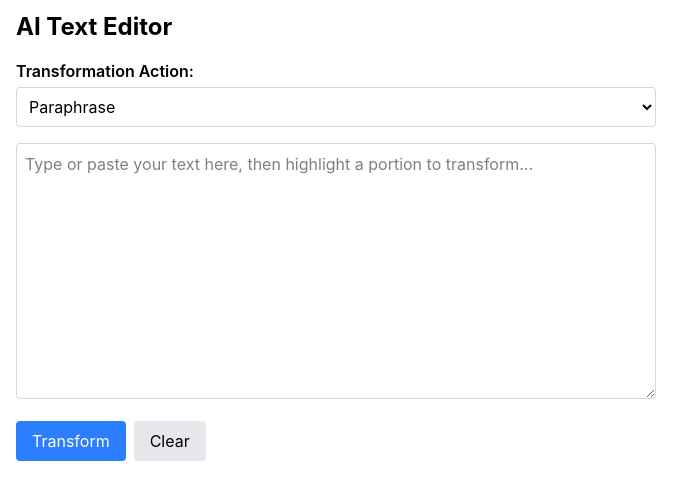
Test: App component › clears text when Clear button is clicked
In the text box with placeholder "Type or paste your text": (336, 271) [16,143,656,399], type "Hello world"
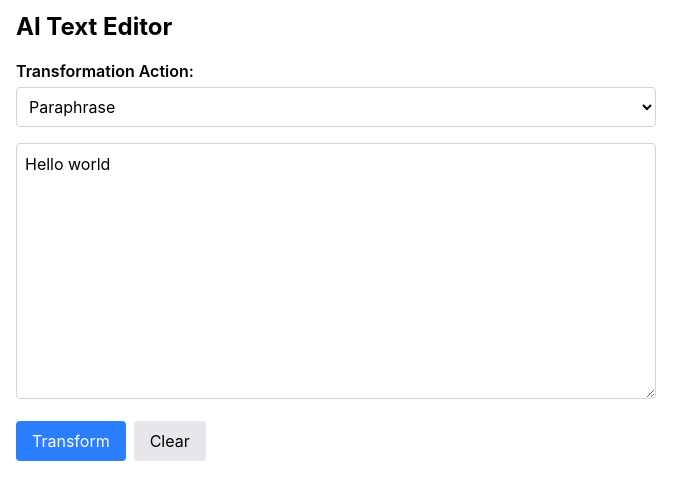
Click the button "Clear": (170, 441) [134,421,206,461]
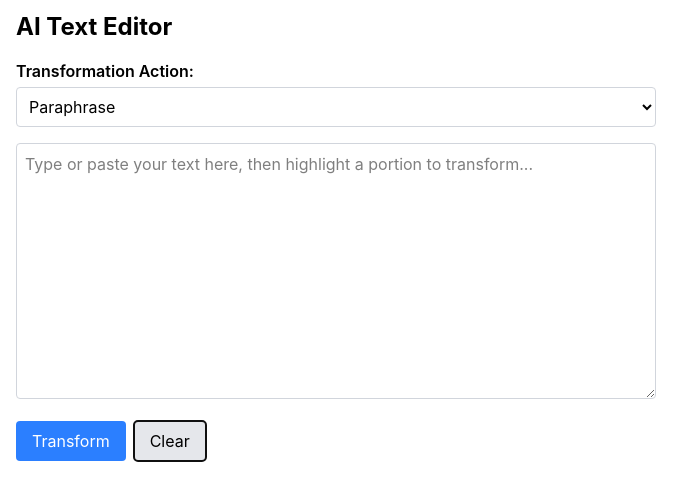
Result: the text box with placeholder "Type or paste your text" is empty at [16,143,656,399]
